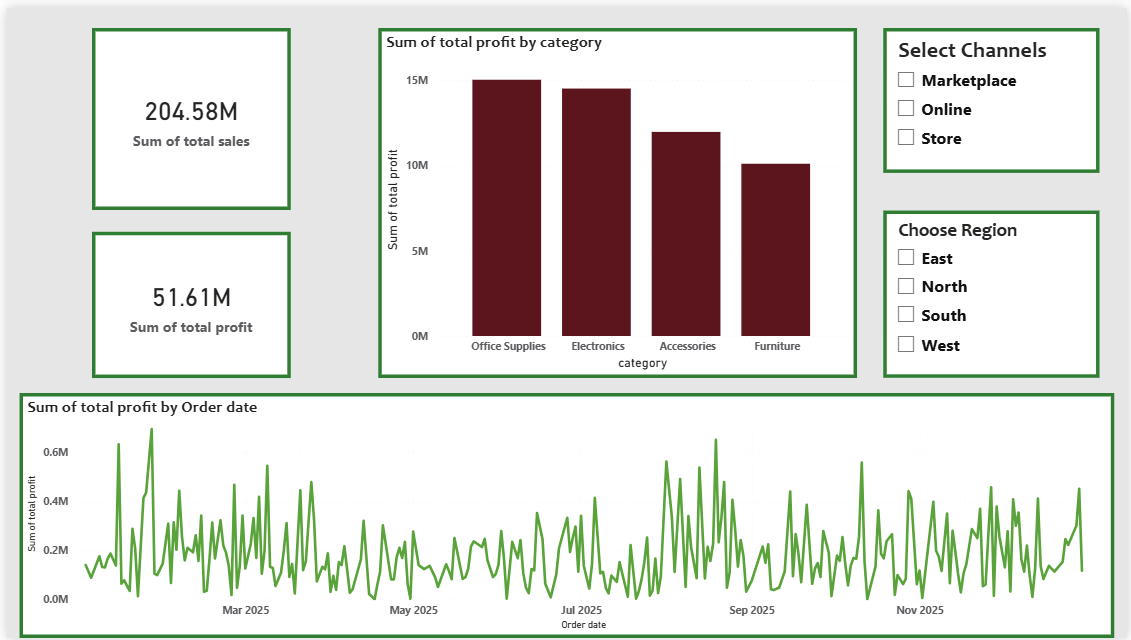

What the dashboard file says about the page in this screenshot:
{"tool":"powerbi","page":{"name":"Page 1","canvas":[1280,720],"ordinal":0},"visuals":[{"type":"card","fields":{"Values":["Sum(order_details.total price per order)"]},"box":[97.1,22.9,227.1,208],"z":0},{"type":"lineChart","fields":{"Y":["Sum(order_details.total profit per order)"],"Category":["orders.order_date.Variation.Date Hierarchy.Year"]},"box":[14.3,440,1251.4,280],"z":1000},{"type":"card","fields":{"Values":["Sum(order_details.total profit per order)"]},"box":[97.1,255.7,227.1,167.1],"z":2000},{"type":"clusteredColumnChart","fields":{"Category":["products.category"],"Y":["Sum(order_details.total profit per order)"]},"box":[424.3,22.9,547.1,400],"z":3000},{"type":"slicer","fields":{"Values":["orders.sales_channel"]},"box":[1001.4,22.9,247.1,165.7],"z":4000},{"type":"slicer","fields":{"Values":["customers.region"]},"box":[1001.4,231.4,247.1,191.4],"z":5000}]}

Visuals, with their boxes in screenshot pixels (x1, y1, x2, y2), scaled from the page's 1280x720 canvas onto the 1131x640 screenshot:
card - Sum(order_details.total price per order): l=86, t=20, r=286, b=205
lineChart - Sum(order_details.total profit per order) x orders.order_date.Variation.Date Hierarchy.Year: l=13, t=391, r=1118, b=639
card - Sum(order_details.total profit per order): l=86, t=227, r=286, b=376
clusteredColumnChart - products.category x Sum(order_details.total profit per order): l=375, t=20, r=858, b=376
slicer - orders.sales_channel: l=885, t=20, r=1103, b=168
slicer - customers.region: l=885, t=206, r=1103, b=376
